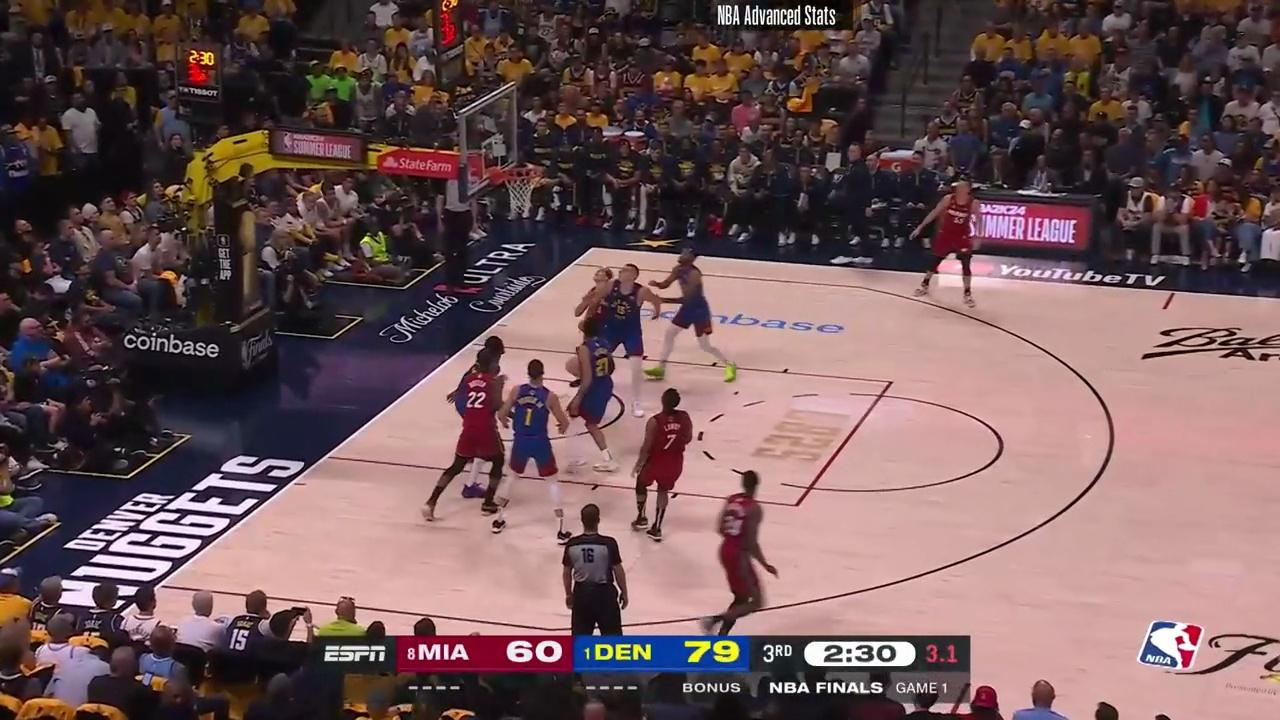Backboard: (471, 88, 526, 196)
Ball: (558, 85, 582, 109)
Basket: (494, 165, 542, 212)
Person: (481, 361, 581, 540), (426, 345, 505, 526), (650, 242, 733, 384), (711, 463, 781, 631), (627, 388, 700, 545), (581, 264, 654, 383), (915, 177, 983, 303), (567, 320, 626, 452)
Referee: (562, 502, 636, 643)
Shot Clock: (178, 43, 219, 116), (431, 0, 465, 83)
